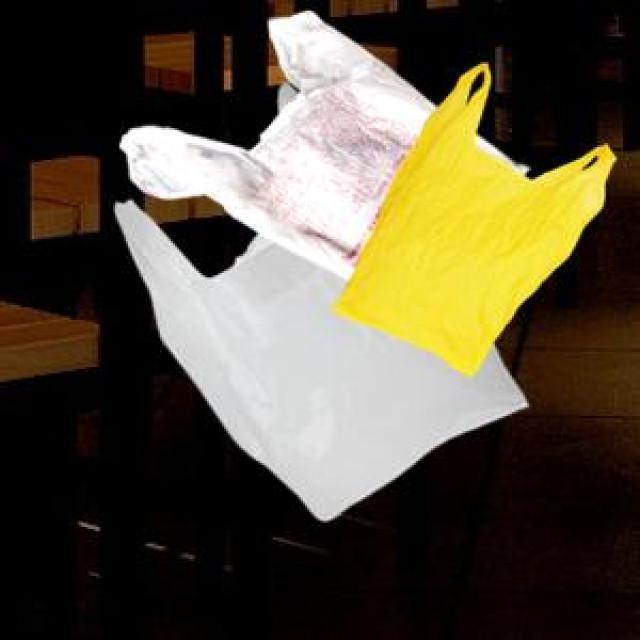waste: (119, 5, 618, 528), (243, 29, 299, 148)
